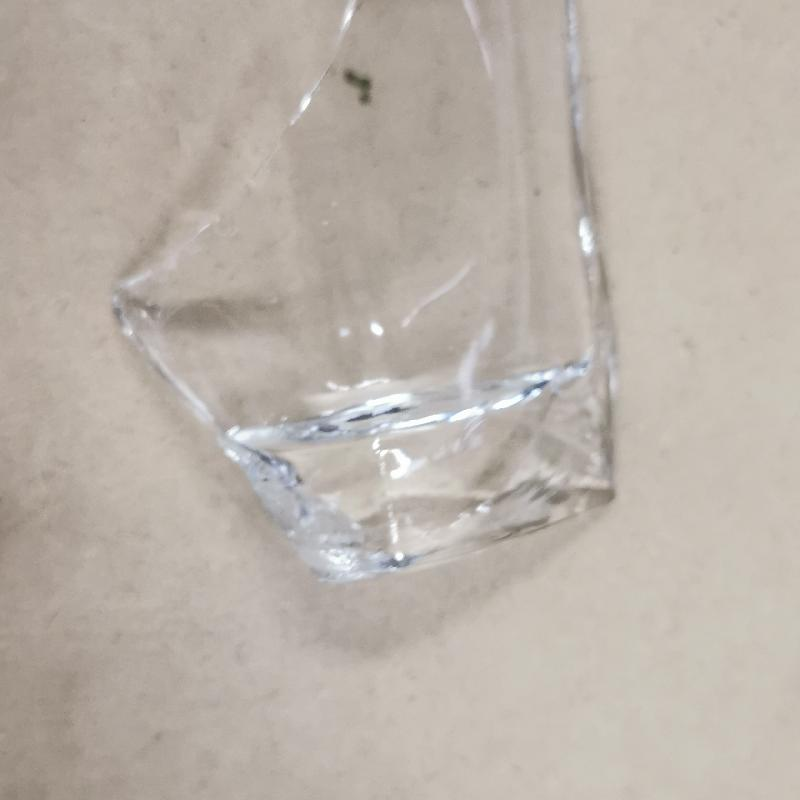glass: (108, 8, 626, 572)
